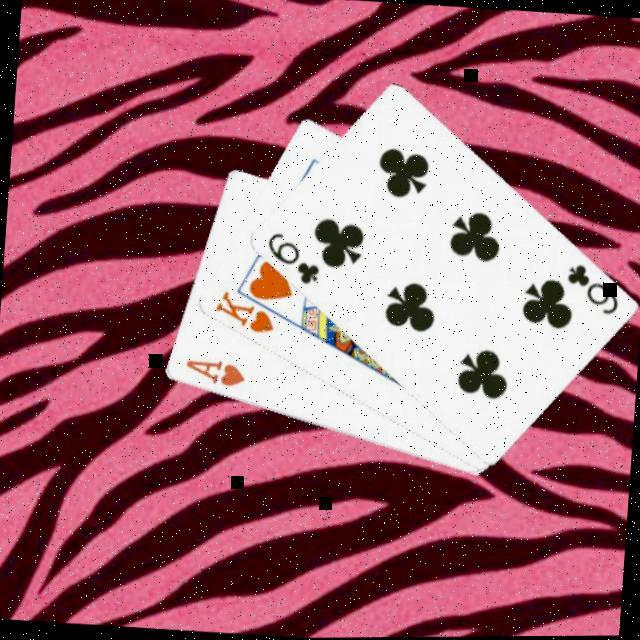6C: (258, 230, 323, 290), (558, 261, 622, 320)
AH: (179, 356, 247, 392)
KH: (208, 288, 276, 338)
